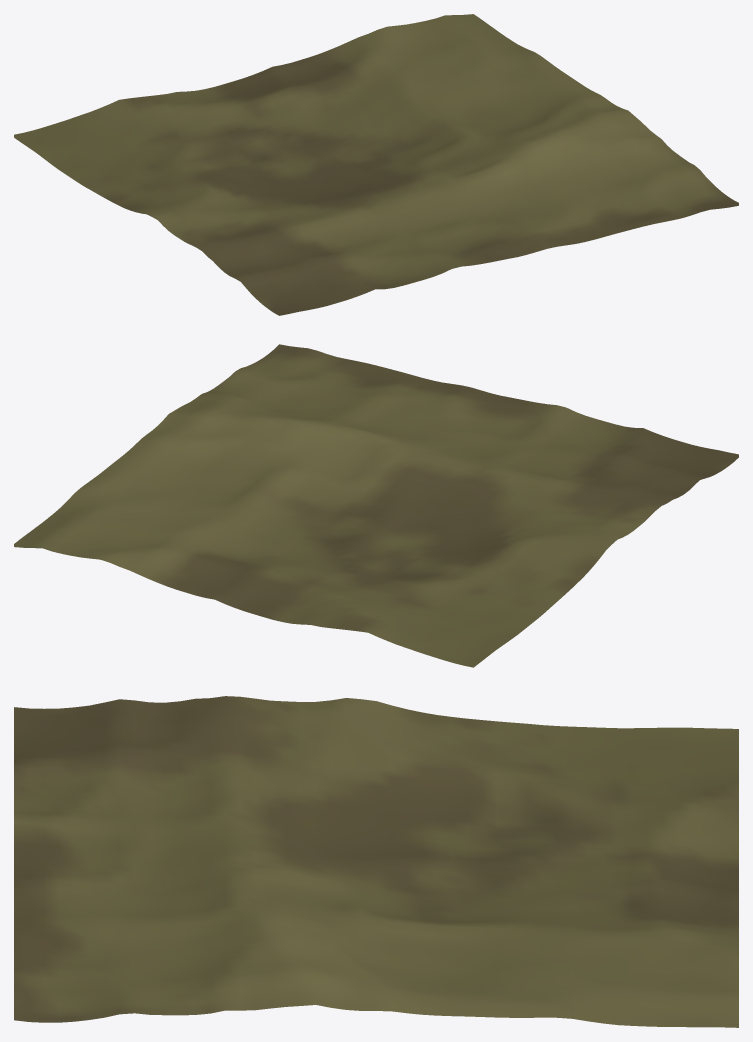
File: land_m_12_04.glb
The picture shows the model from 3 angles, top to bottom: view 1: azimuth 30°, elevation 25°; view 2: azimuth 150°, elevation 25°; view 3: azimuth 270°, elevation 25°; orthographic projection. The views are drawn at different scales.
Visible parts, largest first — view 1: land_m_12_04; view 2: land_m_12_04; view 3: land_m_12_04.
Boxes of the visible parts, box(x1,y1,x2,y2) form: land_m_12_04: box(14, 14, 738, 315); land_m_12_04: box(14, 344, 738, 667); land_m_12_04: box(14, 696, 738, 1027).
Bounding box in the file's own units: 960 × 72.56 × 960.
